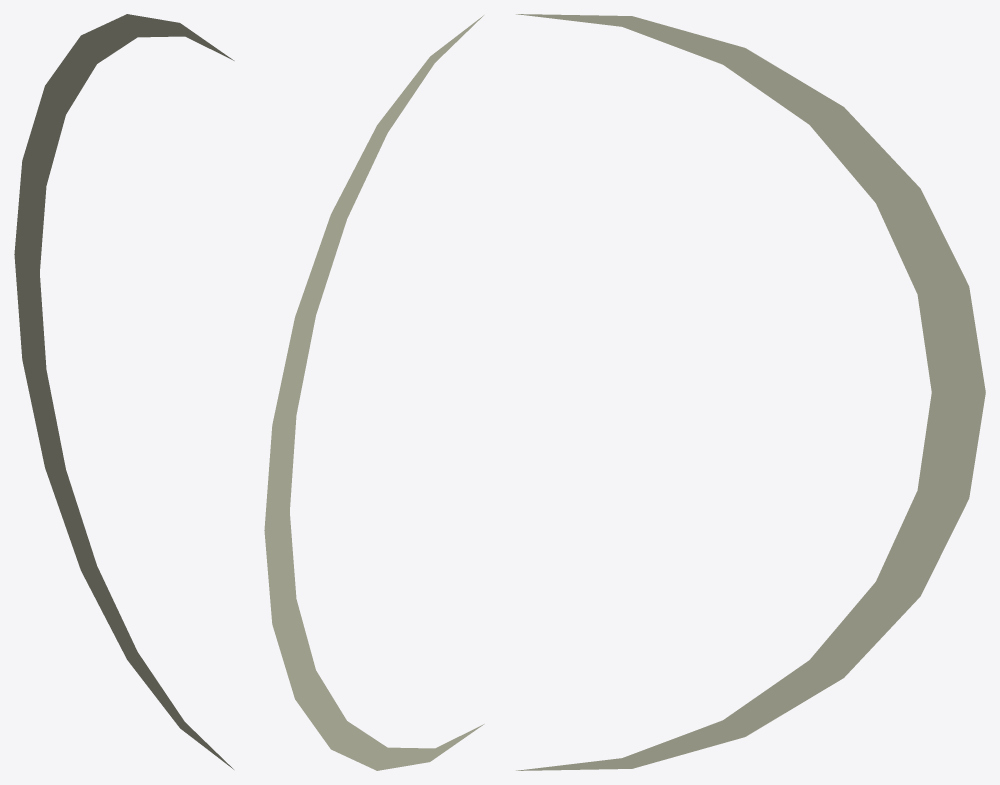
The model's file is original-6.obj.
The picture shows the model from 3 angles, left to right: view 1: azimuth 30°, elevation 25°; view 2: azimuth 150°, elevation 25°; view 3: azimuth 270°, elevation 25°; orthographic projection. The views are drawn at different scales.
Parts seen in each view (by area): view 1: #ID47; view 2: #ID47; view 3: #ID47.
Part boxes in pixels (x1,y1,x2,y2): #ID47: (14,14,234,769); #ID47: (264,15,484,770); #ID47: (516,14,985,770).
Bounding box in the file's own units: 0 × 0.143 × 0.0808.
